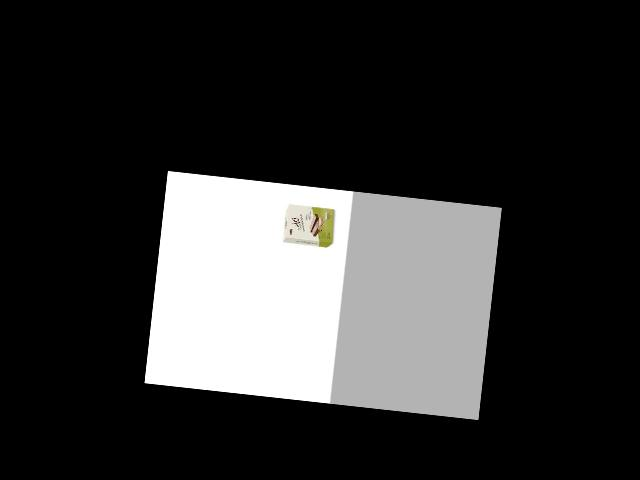chocolate: (281, 199, 339, 251)
